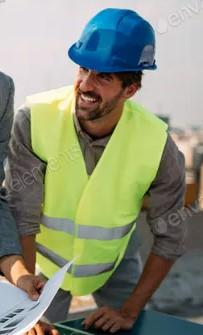hat: (73, 8, 157, 74)
low quality vest: (24, 96, 163, 295)
no protective face gear: (71, 67, 127, 120)
